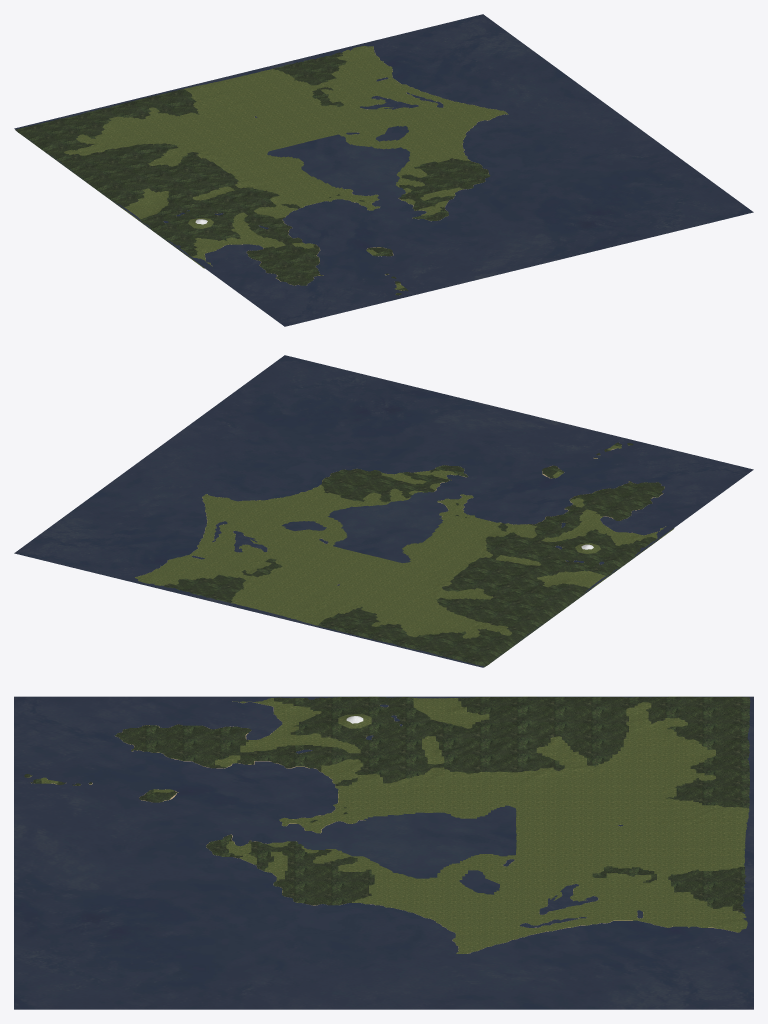
The model's file is kanto_terrain_2.fbx.
3 views of the same model, one above another, from view 1: azimuth 30°, elevation 25°; view 2: azimuth 150°, elevation 25°; view 3: azimuth 270°, elevation 25° (orthographic). The views are drawn at different scales.
Parts seen in each view (by area): view 1: sea, kanto_terrain; view 2: sea, kanto_terrain; view 3: sea, kanto_terrain.
Boxes of the visible parts, <box> form: sea: <box>14,14,753,326</box>; kanto_terrain: <box>15,45,508,295</box>; sea: <box>14,355,753,667</box>; kanto_terrain: <box>135,442,674,667</box>; sea: <box>14,696,753,1009</box>; kanto_terrain: <box>24,696,750,953</box>.
Bounding box in the file's own units: 3.24e+07 × 389570 × 3.24e+07.
